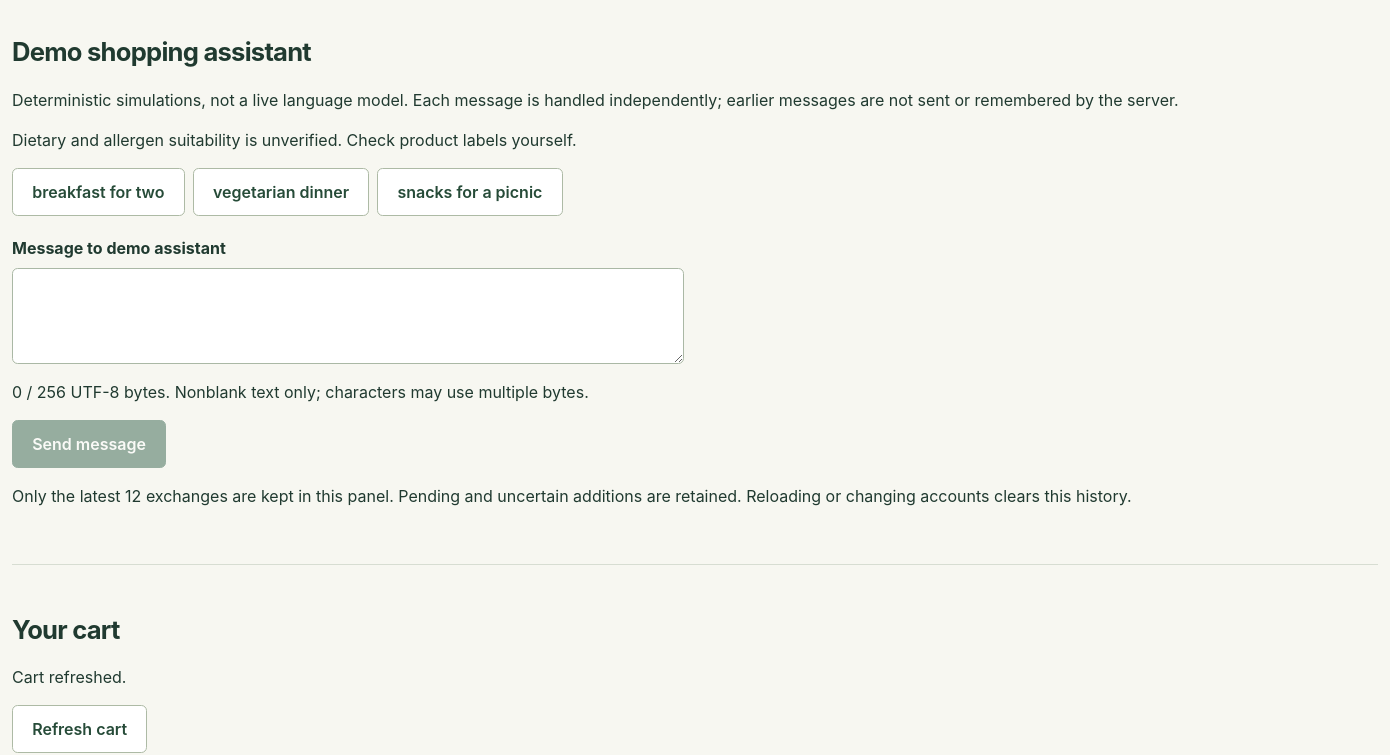
it: demo assistant panel and shared cart › allows manual edits and explicit checkout after assistant_unavailable
Check: the text "Cart refreshed." is shown, box [12, 667, 126, 687]
In the text box labelled "Message to demo assistant": (348, 316) [12, 268, 684, 364], type "breakfast for two"
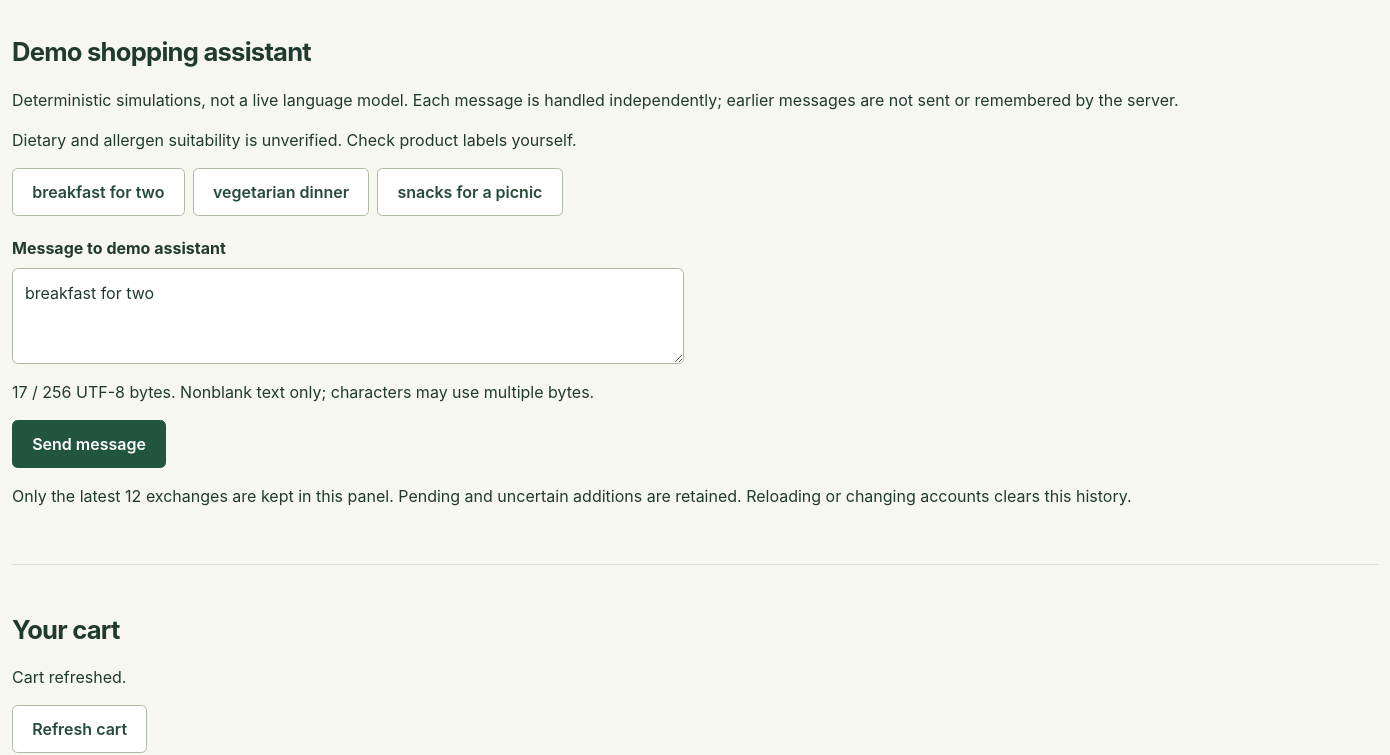
Click the button "Send message": (89, 444) [12, 420, 166, 468]
(page scrolled)
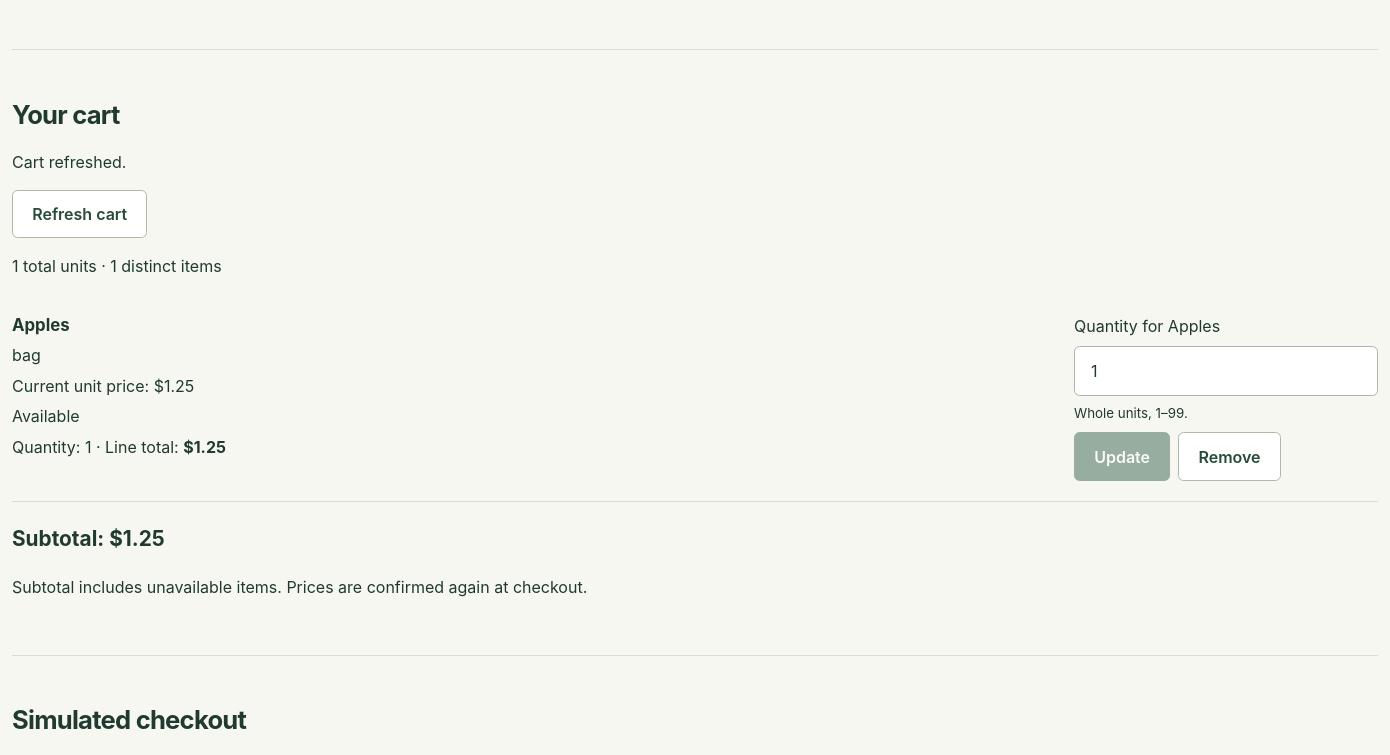
Replace the text in the number field labelled "Quantity for Apples" with "2": (1226, 371) [1074, 346, 1378, 396]
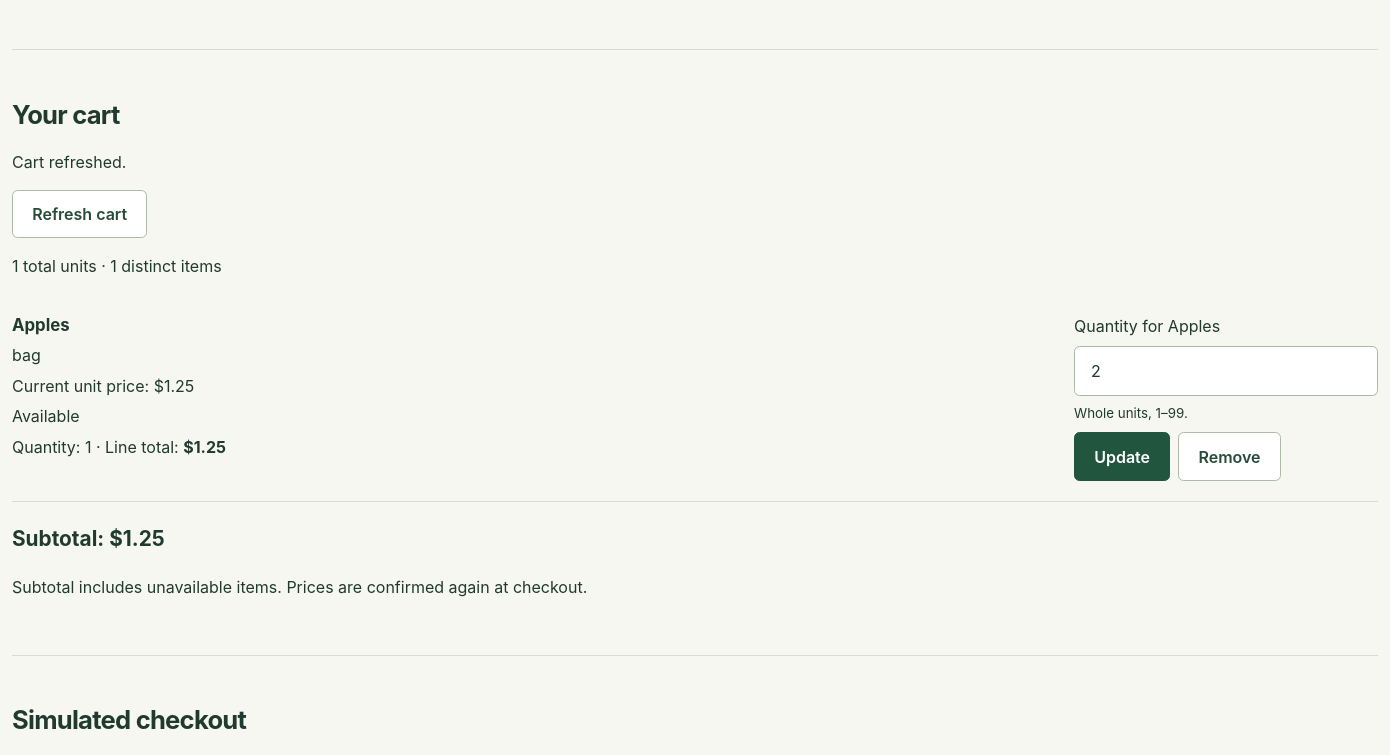
Click the button with aria-label "Update quantity for Apples": (1122, 457) [1074, 432, 1170, 481]
(page scrolled)
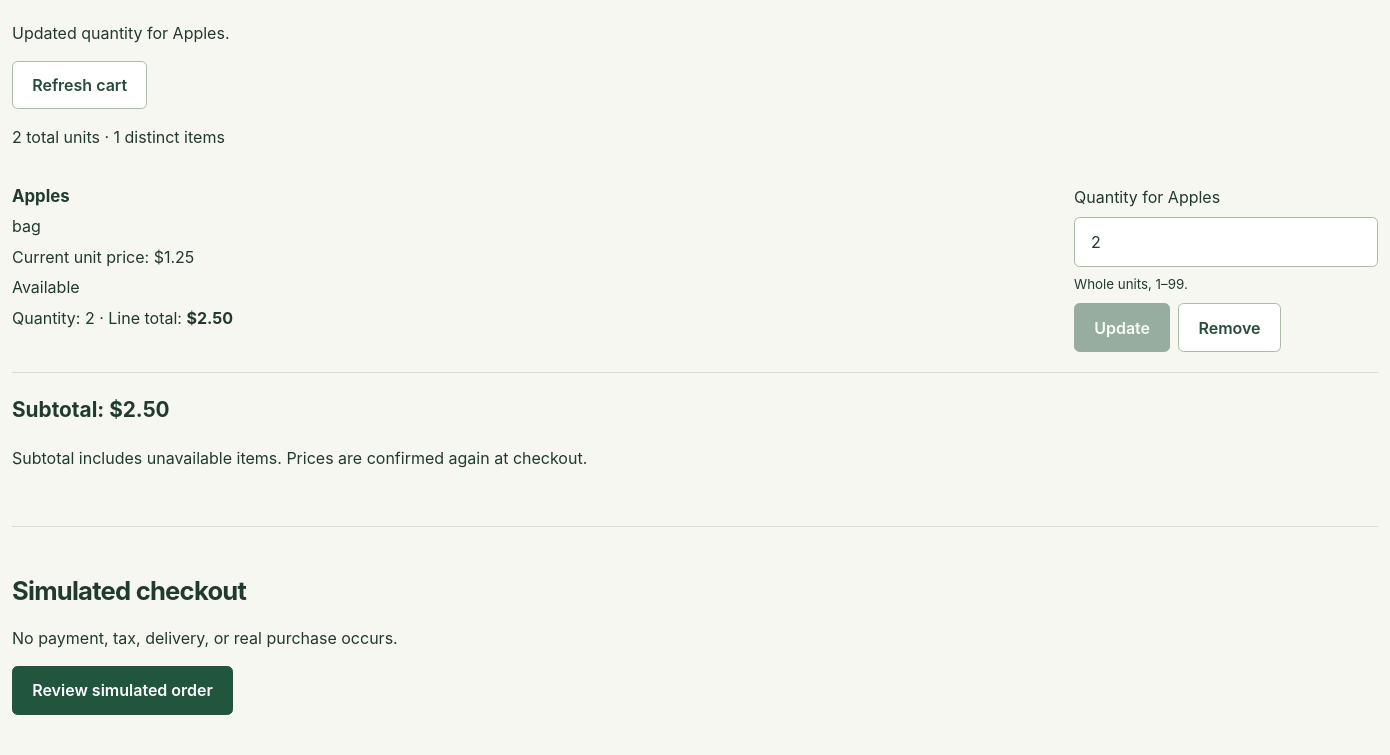
Check: the text "Subtotal: $2.50" is shown, box [12, 396, 170, 422]
Click the button "Review simulated order": (123, 690) [12, 666, 233, 714]
(page scrolled)
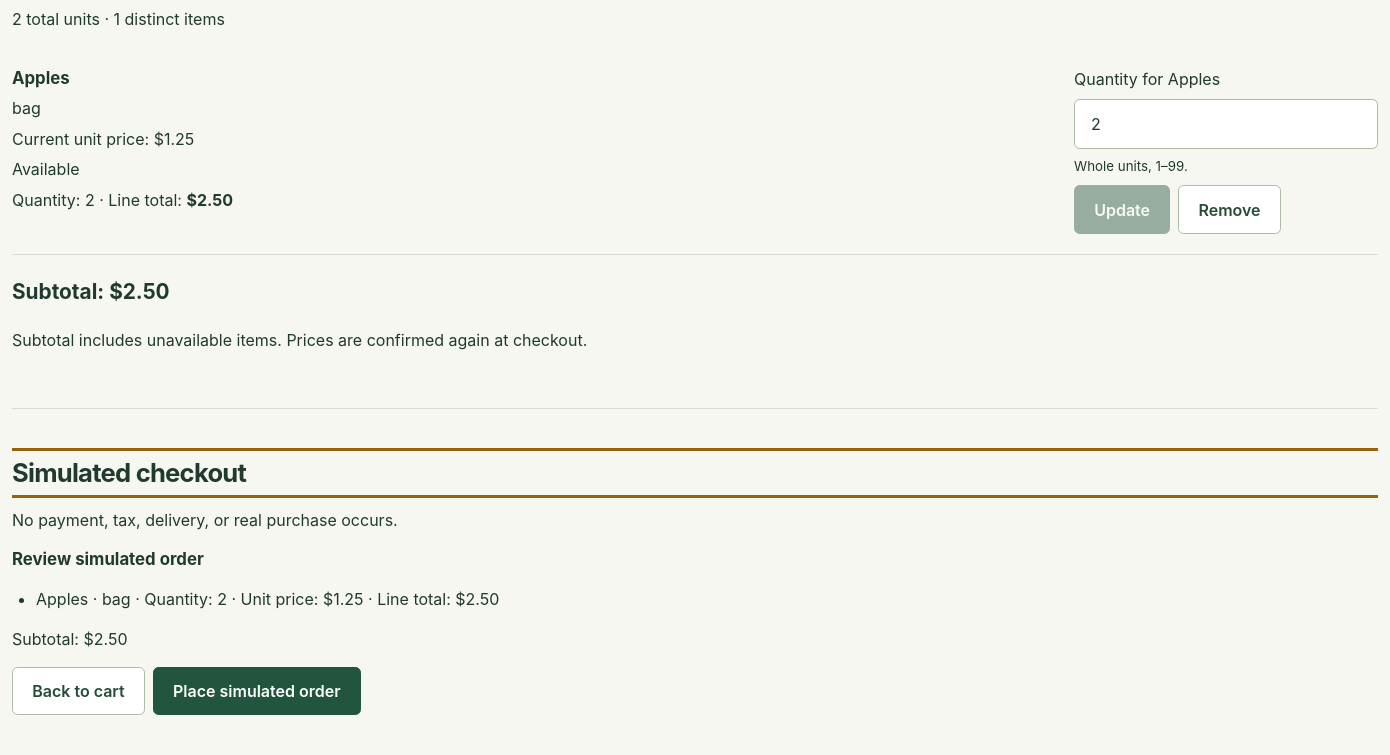
Check: the button "Place simulated order" is shown
Click the button "Place simulated order": (257, 691) [153, 667, 361, 715]
(page scrolled)
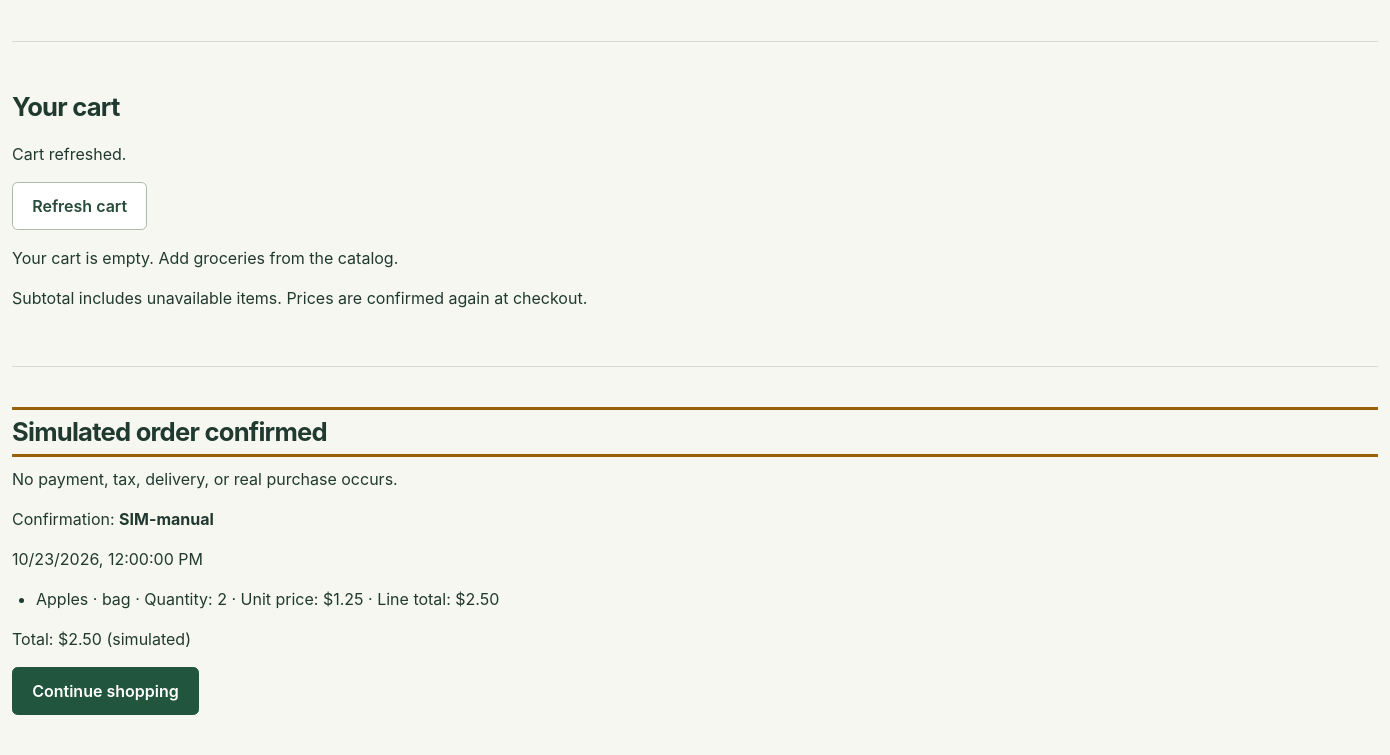
Check: the text "SIM-manual" is shown, box [119, 509, 214, 529]
Check: the text "Your cart is empty. Add groceries from the catalog." is shown, box [12, 248, 398, 268]
